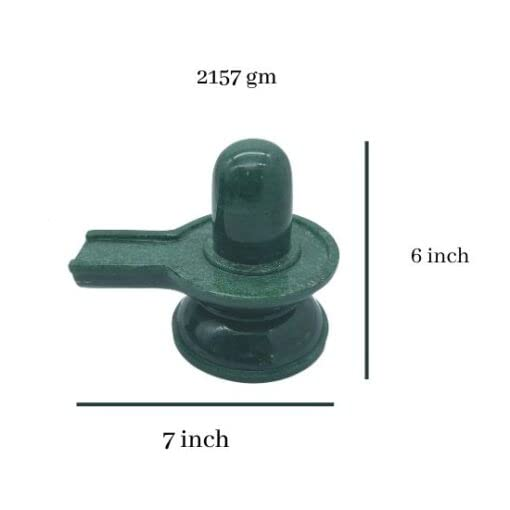2157: (197, 70, 241, 86)
6: (412, 248, 421, 263)
gm: (247, 71, 276, 88)
inch: (428, 247, 468, 263)
